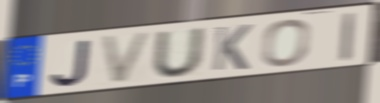I: (339, 10, 358, 63)
J: (50, 37, 93, 88)
K: (210, 23, 254, 73)
O: (260, 17, 313, 68)
U: (151, 26, 206, 79)
V: (99, 29, 154, 86)
